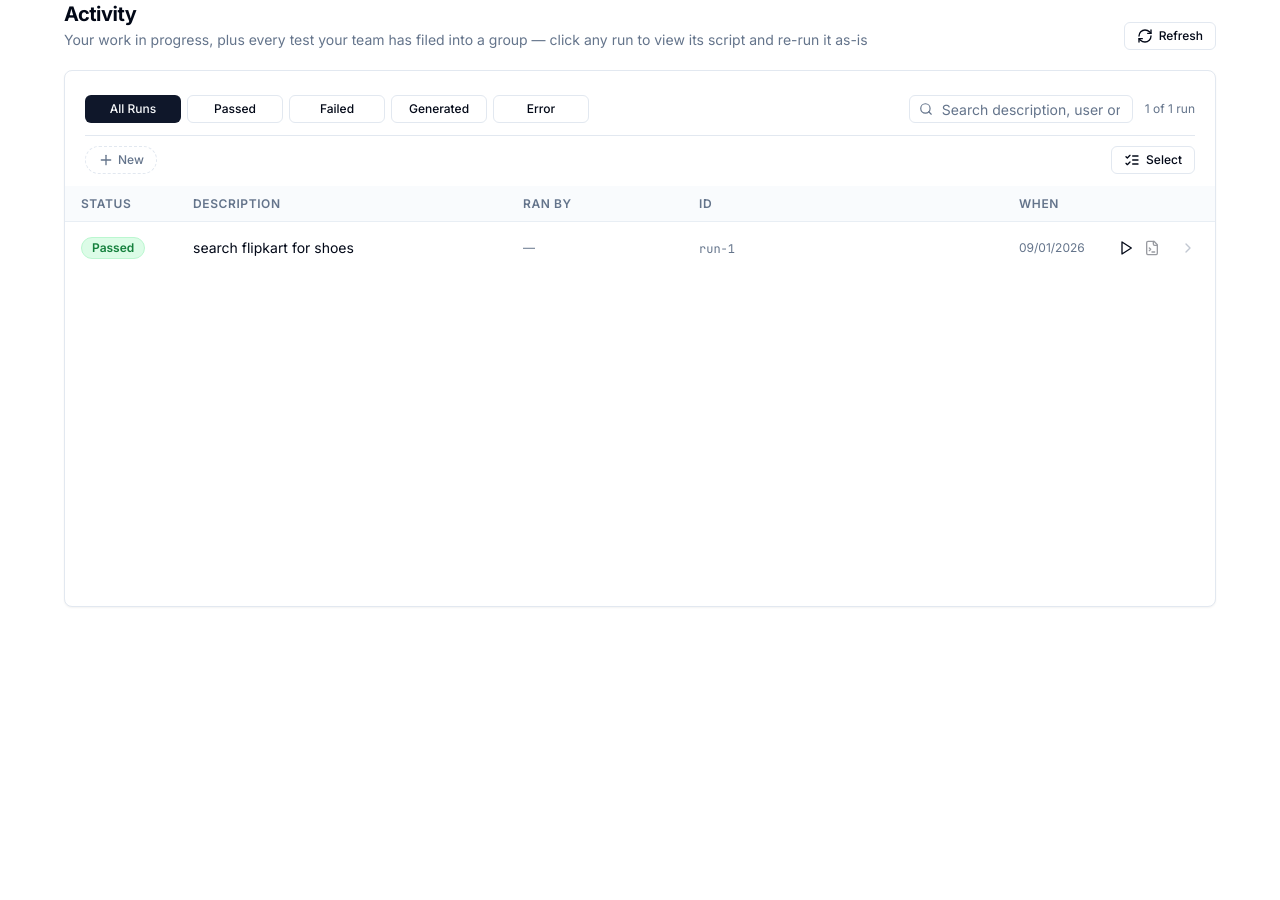
Test case: HistoryPage drawer — the corrections fetch › renders the "filed against the original run" notice with the full, untruncated id
Click the button "search flipkart for shoes" at [273, 248], box [193,238,354,258]
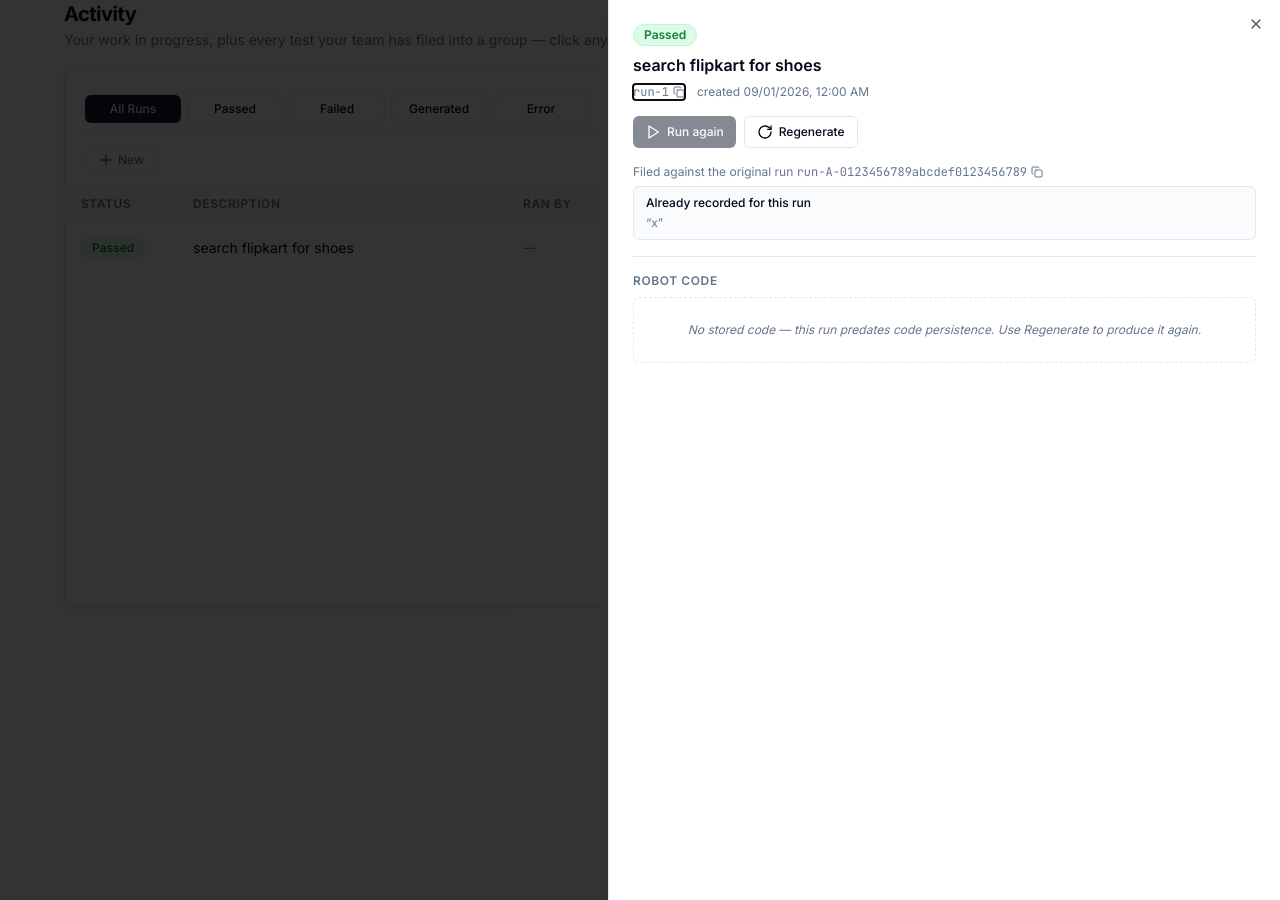
Now the text "Filed against the original run" is shown, box [633,164,793,179]
Now the button "run-A-0123456789abcdef0123456789" is shown, box [797,164,1043,180]
